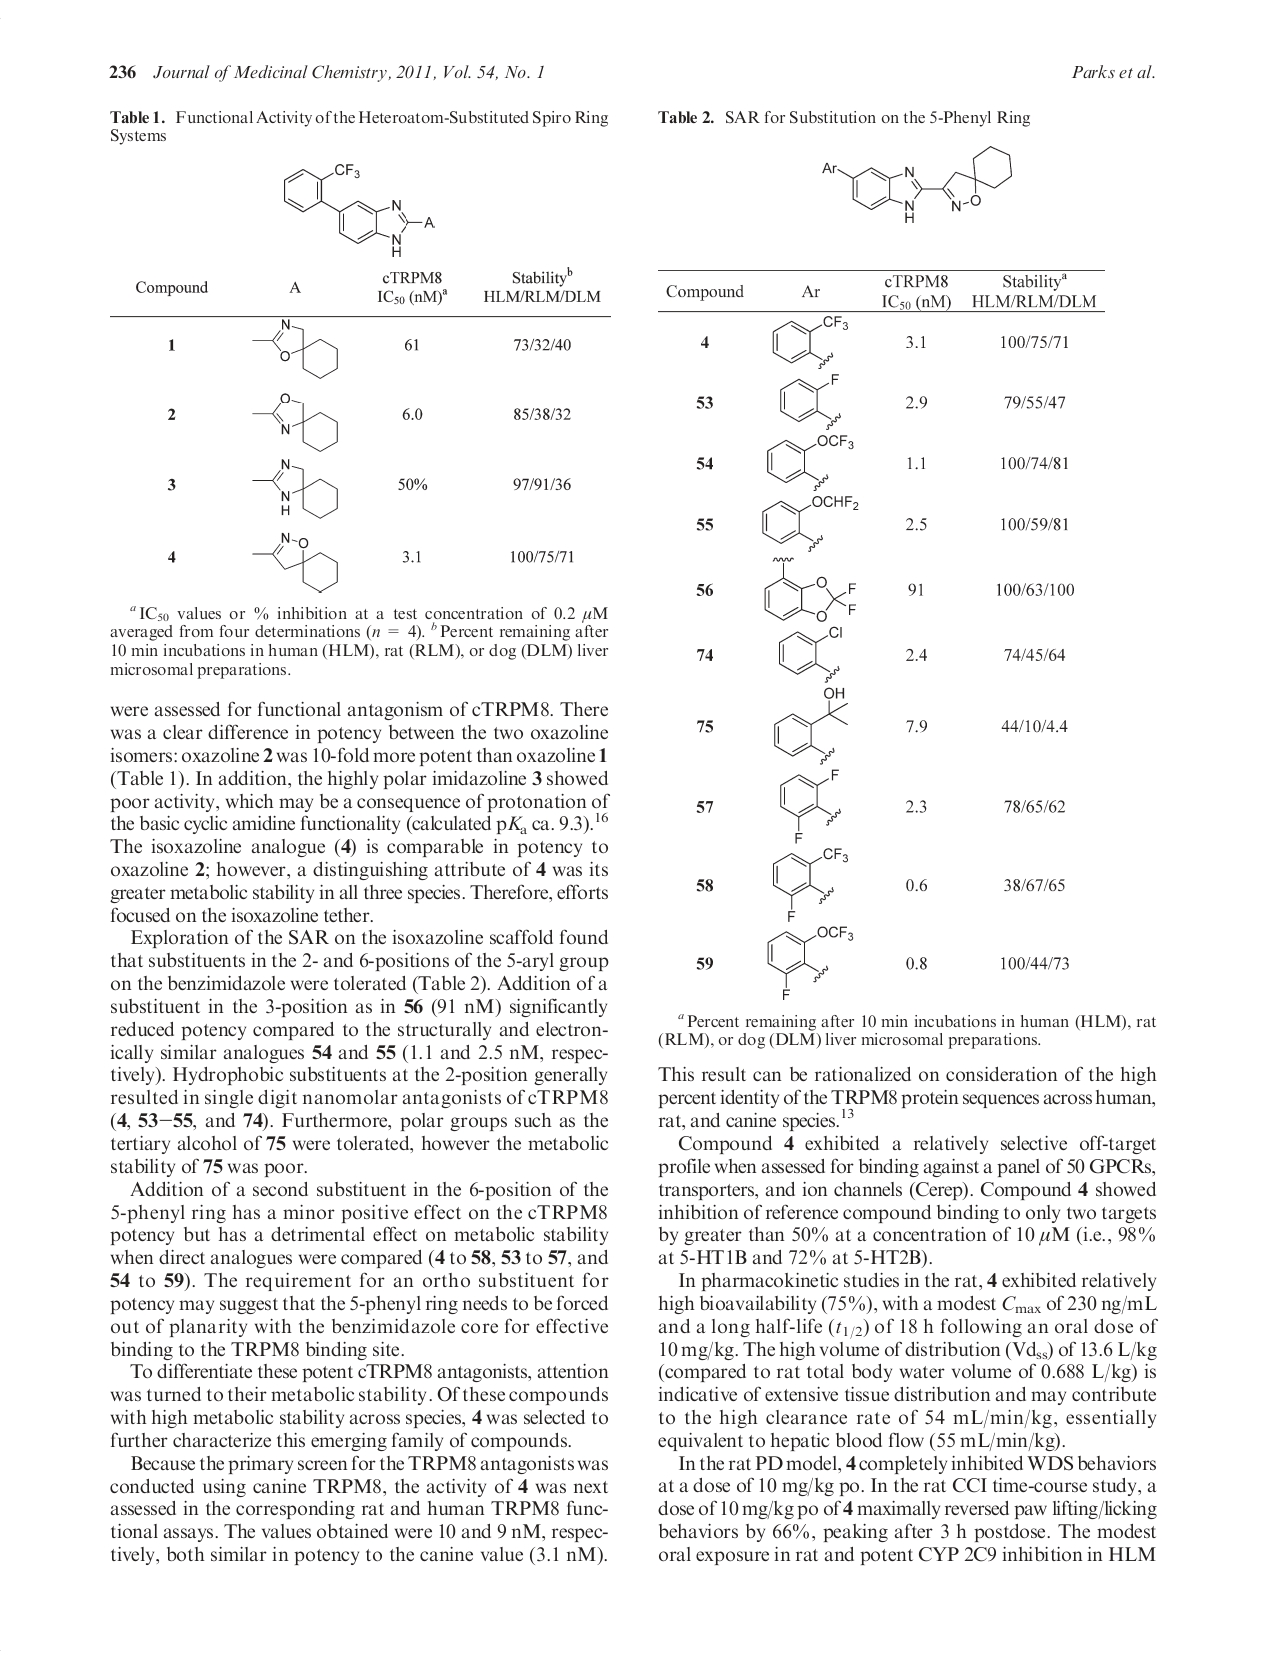exist_molecular: (819, 144, 1017, 226), (281, 161, 438, 261), (759, 551, 859, 624), (766, 922, 855, 1003), (773, 682, 852, 766), (769, 842, 852, 922), (759, 489, 860, 552), (249, 531, 342, 594), (249, 390, 342, 452), (250, 456, 342, 519), (251, 317, 340, 380), (773, 765, 843, 844), (762, 432, 856, 489), (767, 313, 848, 370), (777, 622, 847, 684), (777, 368, 843, 430)
